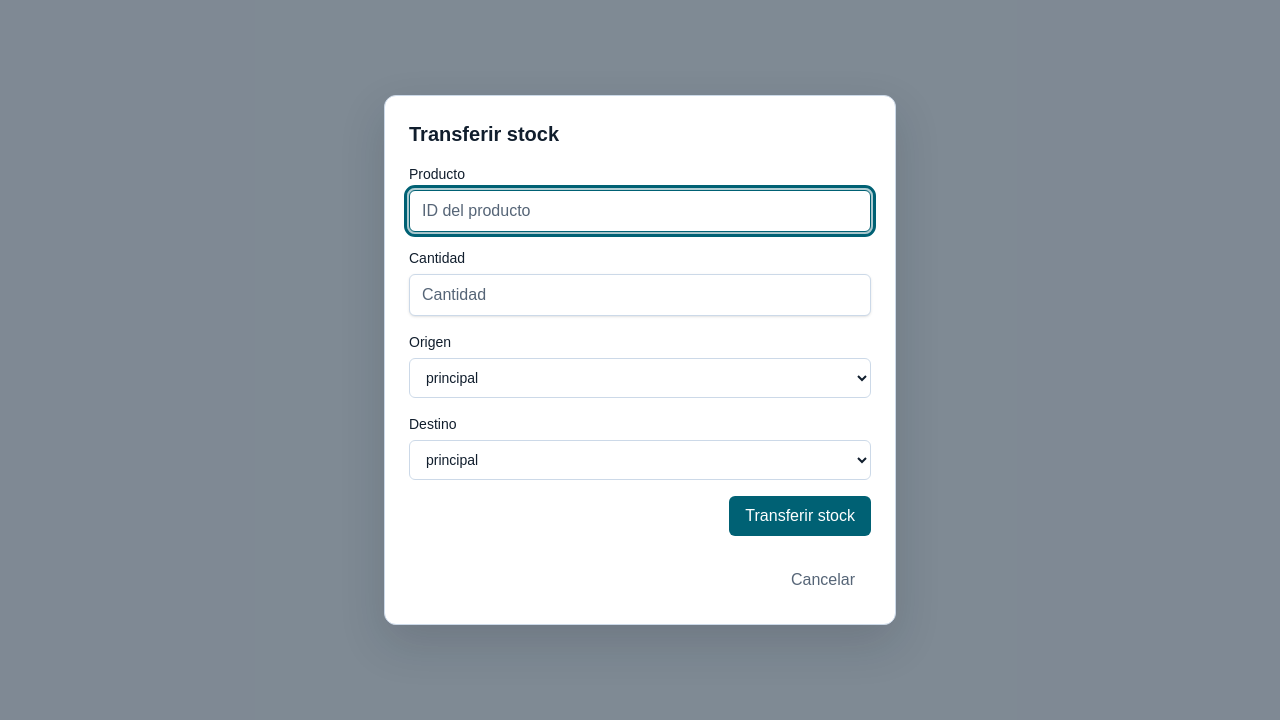
Test: StockTransferModal › sends a fresh x-idempotency-key per attempt
Type "p_1" into the field labelled "Producto" at (640, 211), box top-left (409, 190), bottom-right (871, 232)
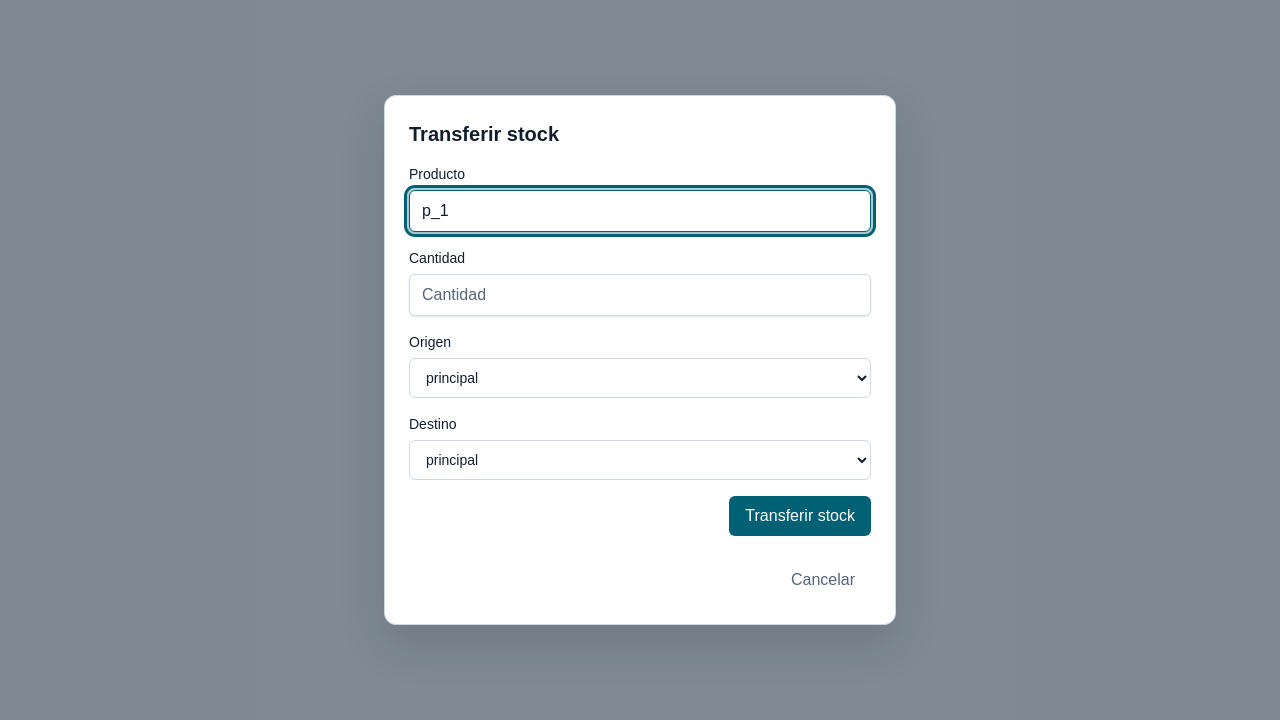
Type "2" into the number field labelled "Cantidad" at (640, 295), box top-left (409, 274), bottom-right (871, 316)
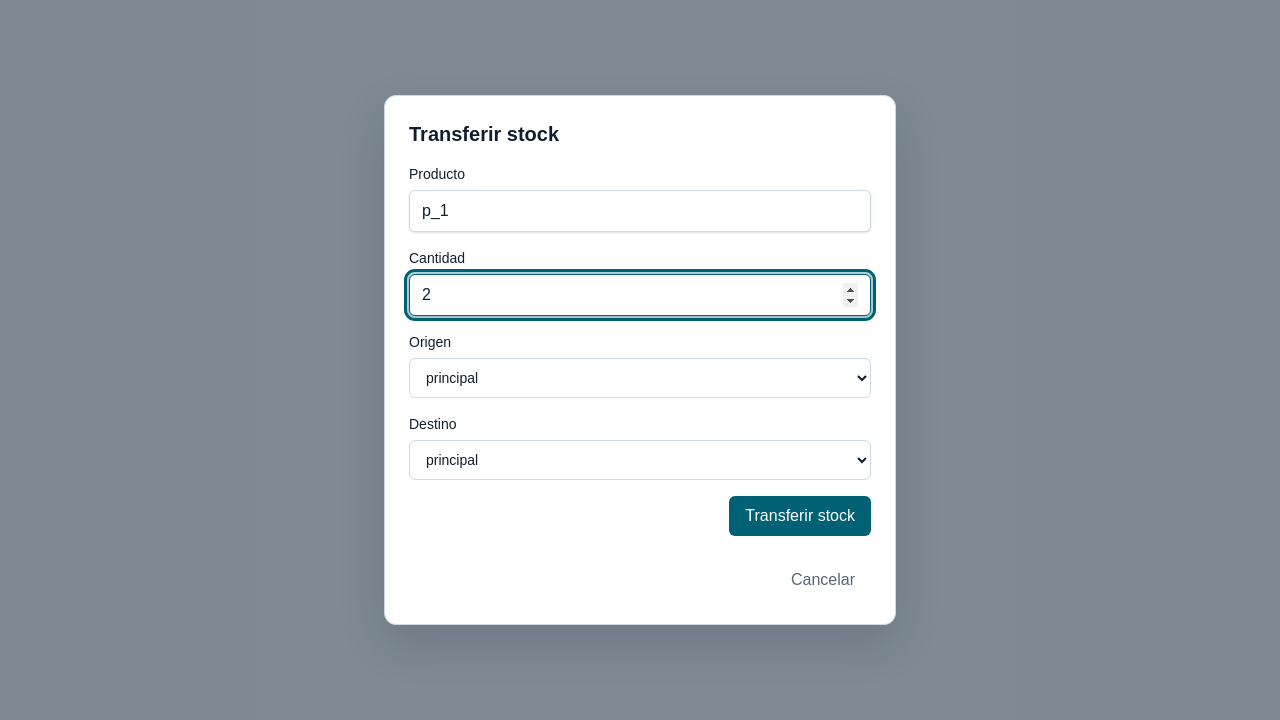
Select "taller" in the dropdown labelled "Destino" at (640, 460), box top-left (409, 440), bottom-right (871, 480)
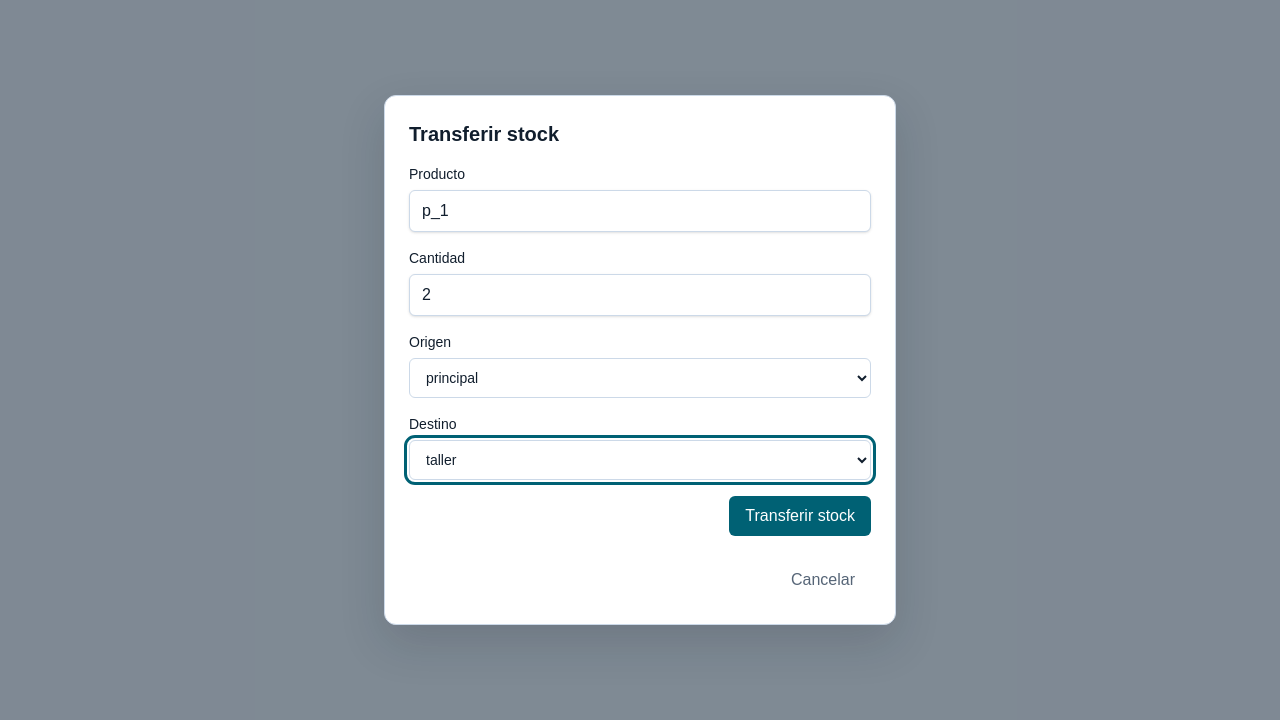
Click the button "Transferir stock" at (800, 516), box top-left (729, 496), bottom-right (871, 536)
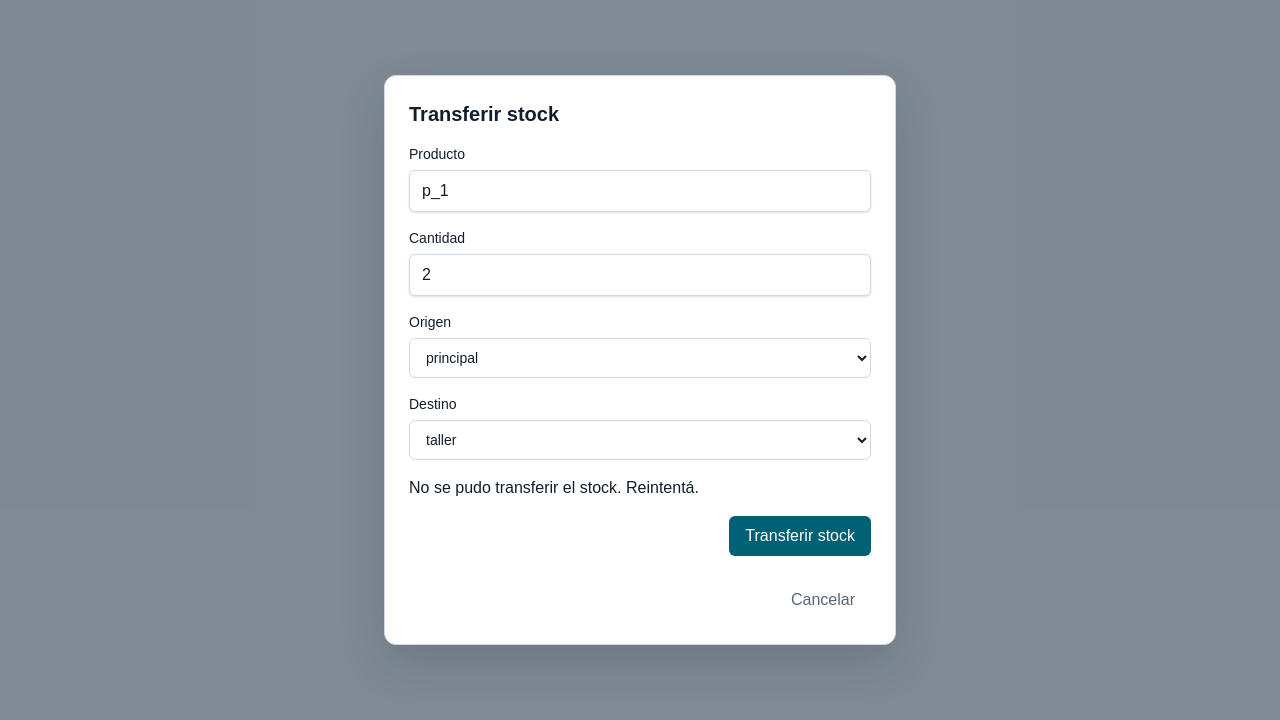
Check: the text "No se pudo transferir el stock. Reintentá." is shown, box top-left (409, 479), bottom-right (699, 496)
Click the button "Transferir stock" at (800, 536), box top-left (729, 516), bottom-right (871, 556)
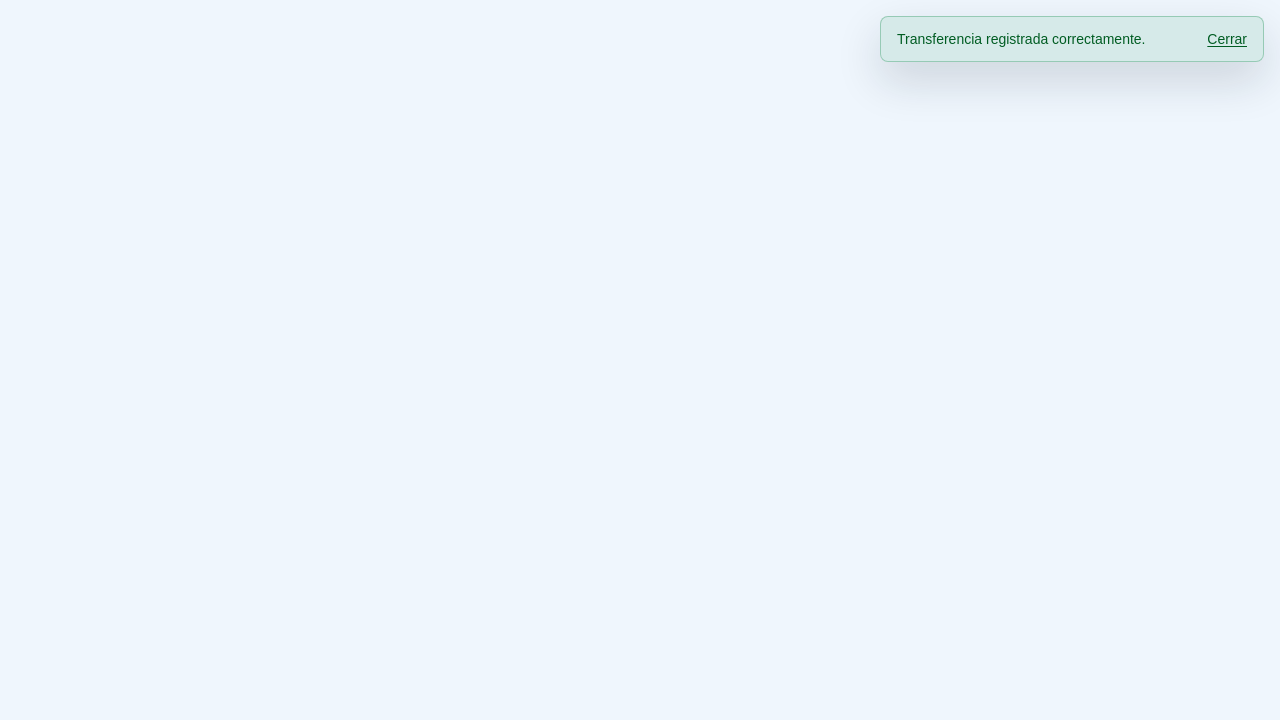
Check: the dialog is gone
